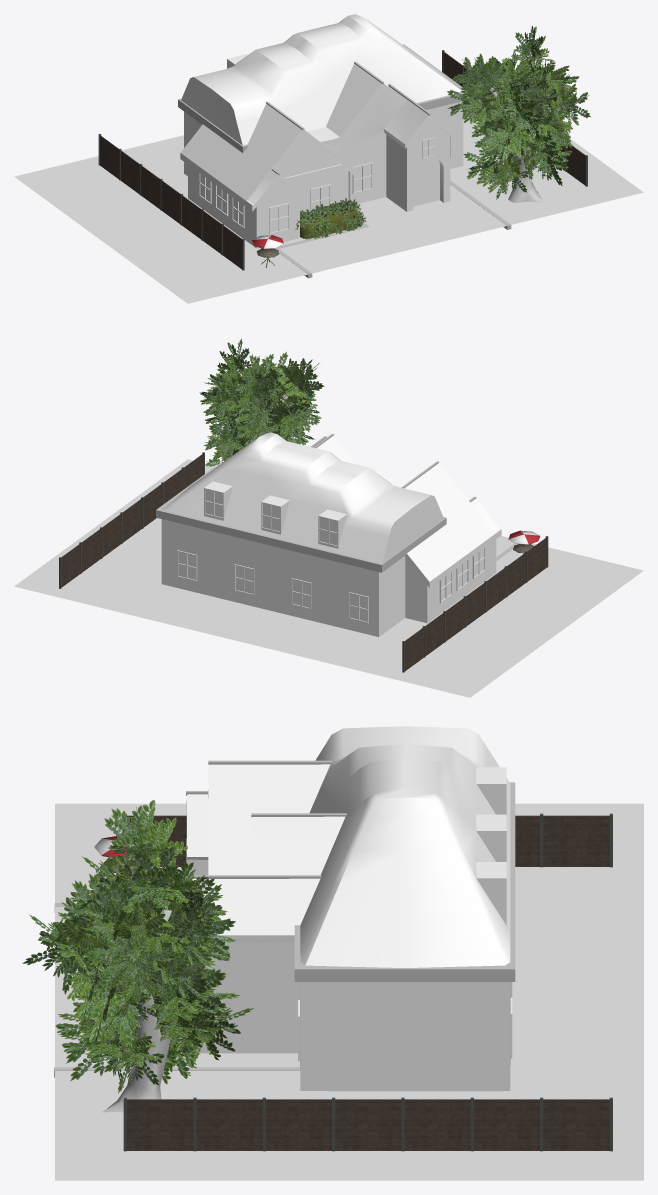
The model's file is house.fbx.
3 renders of one model, top to bottom at view 1: azimuth 30°, elevation 25°; view 2: azimuth 150°, elevation 25°; view 3: azimuth 270°, elevation 25°, orthographic. The views are drawn at different scales.
Parts seen in each view (by area): view 1: house; view 2: house; view 3: house.
Part boxes in pixels (box(x1,y1,x2,y2)): house: box(14, 14, 643, 303); house: box(14, 338, 643, 697); house: box(22, 726, 643, 1180).
Size of the model in its own units: 348 by 124 by 245.
